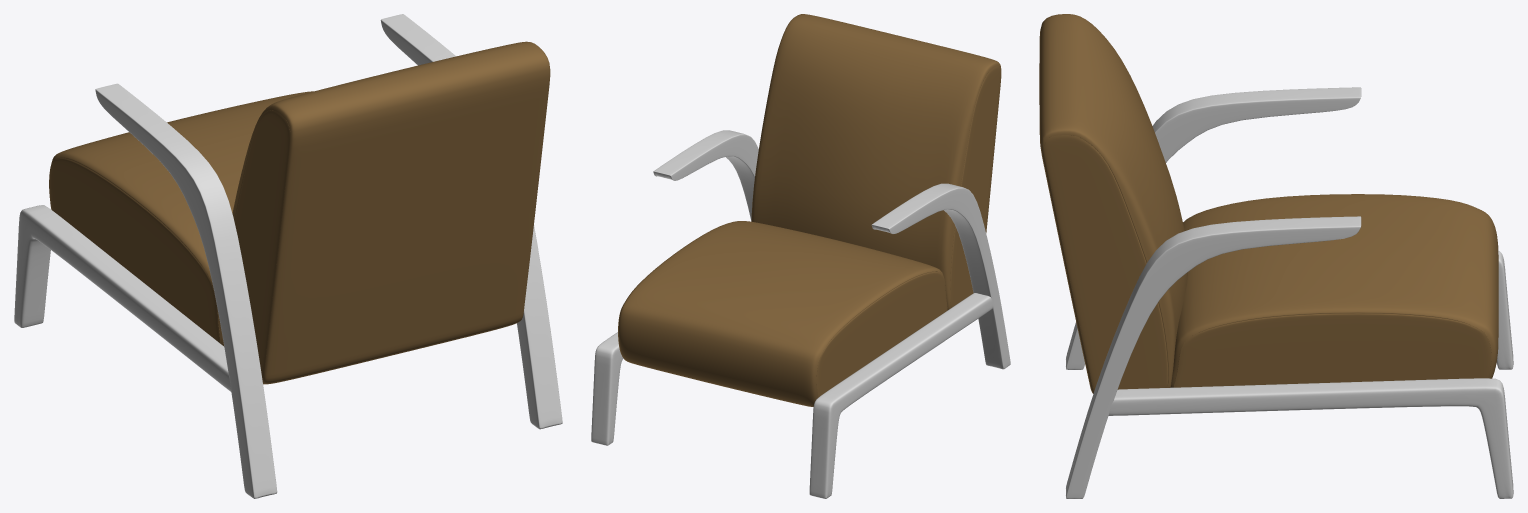
File: Chair.fbx
The picture shows the model from 3 angles, left to right: view 1: azimuth 30°, elevation 25°; view 2: azimuth 150°, elevation 25°; view 3: azimuth 270°, elevation 25°; orthographic projection. The views are drawn at different scales.
Visible parts, largest first — view 1: Back, Seat, L_leg_back, L_leg_front, L_leg_back1; view 2: Back, Seat, L_leg_front, L_leg_back, L_leg_back1, L_leg_front1; view 3: Seat, Back, L_leg_front1, L_leg_back1, L_leg_back, L_leg_front.
Part boxes in pixels (box(x1,y1,x2,y2)): Back: box(223, 41, 550, 384); Seat: box(49, 91, 313, 345); L_leg_back: box(95, 83, 277, 498); L_leg_front: box(14, 205, 231, 391); L_leg_back1: box(380, 14, 562, 429); Back: box(751, 14, 1001, 309); Seat: box(618, 221, 947, 406); L_leg_front: box(809, 293, 993, 498); L_leg_back: box(871, 183, 1010, 369); L_leg_back1: box(653, 130, 758, 220); L_leg_front1: box(591, 332, 623, 445); Seat: box(1170, 194, 1498, 387); Back: box(1039, 14, 1187, 393); L_leg_front1: box(1108, 378, 1513, 498); L_leg_back1: box(1066, 216, 1361, 498); L_leg_back: box(1066, 87, 1361, 369); L_leg_front: box(1496, 251, 1513, 369).
Size of the model in its own units: 62.38 by 74.8 by 89.31.
